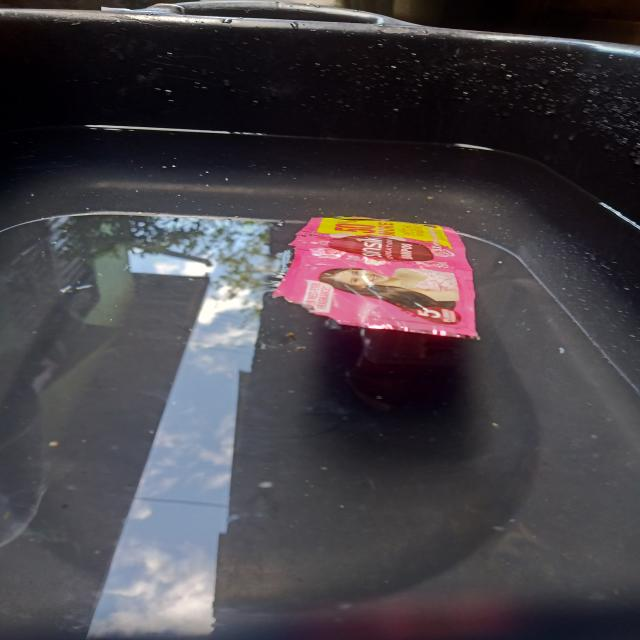Plastic Wrapper: (266, 212, 491, 346)
